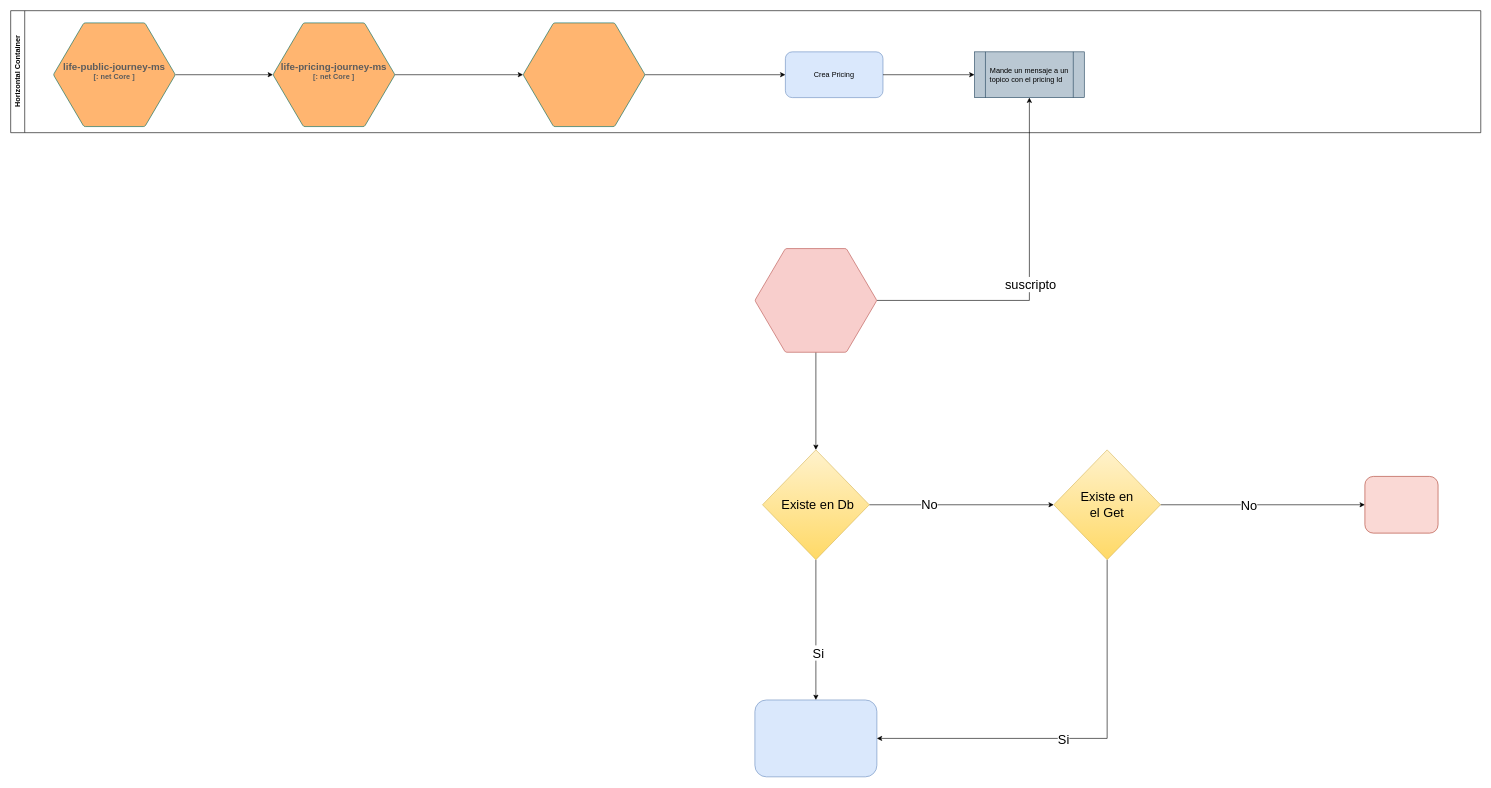
Image size: 1491x788. Some labels were removed from this diagram. Each missing label, with the centre of its shape:
Exception: the point at 1401,504
Guarda Pricing Generados: the point at 815,738
life-pricing-tx-ms [: net Core ]: the point at 583,74
life-signup-tx-ms [: net Core ]: the point at 815,300
